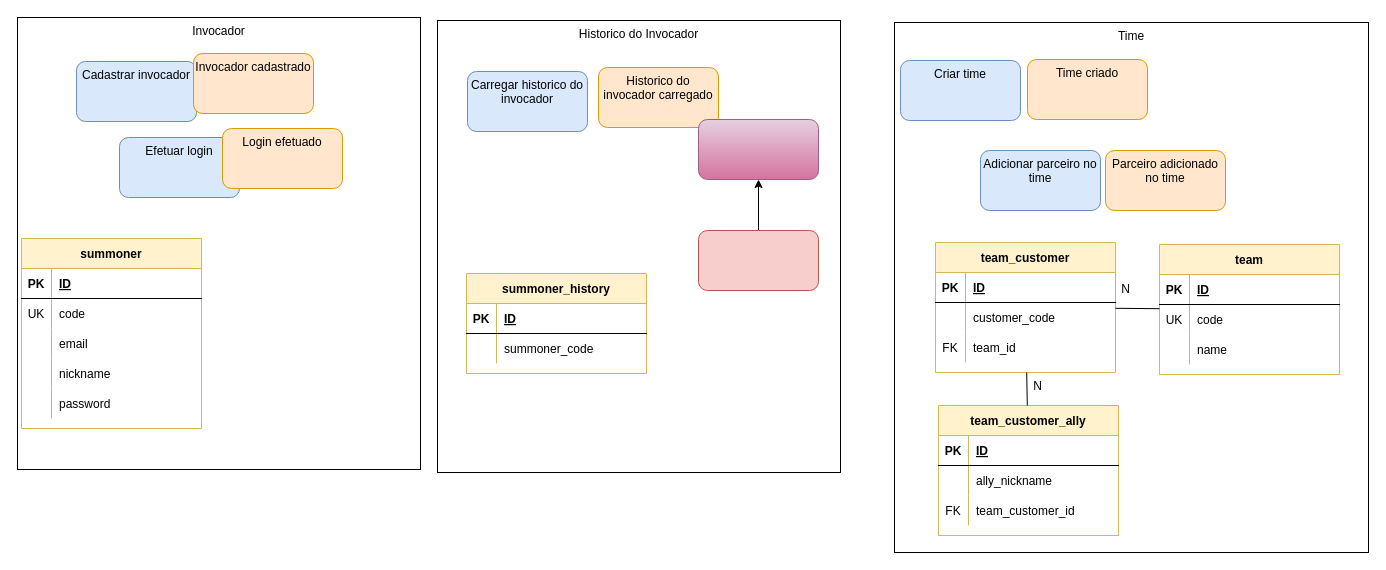
This 1386x570 diagram has some shape labels left out. Here are the shapes that lost their labels. From the top down, the centre of each, then its label:
At pixel 758 149: "API Riot".
At pixel 758 260: "Como integrar com essa porra?".
